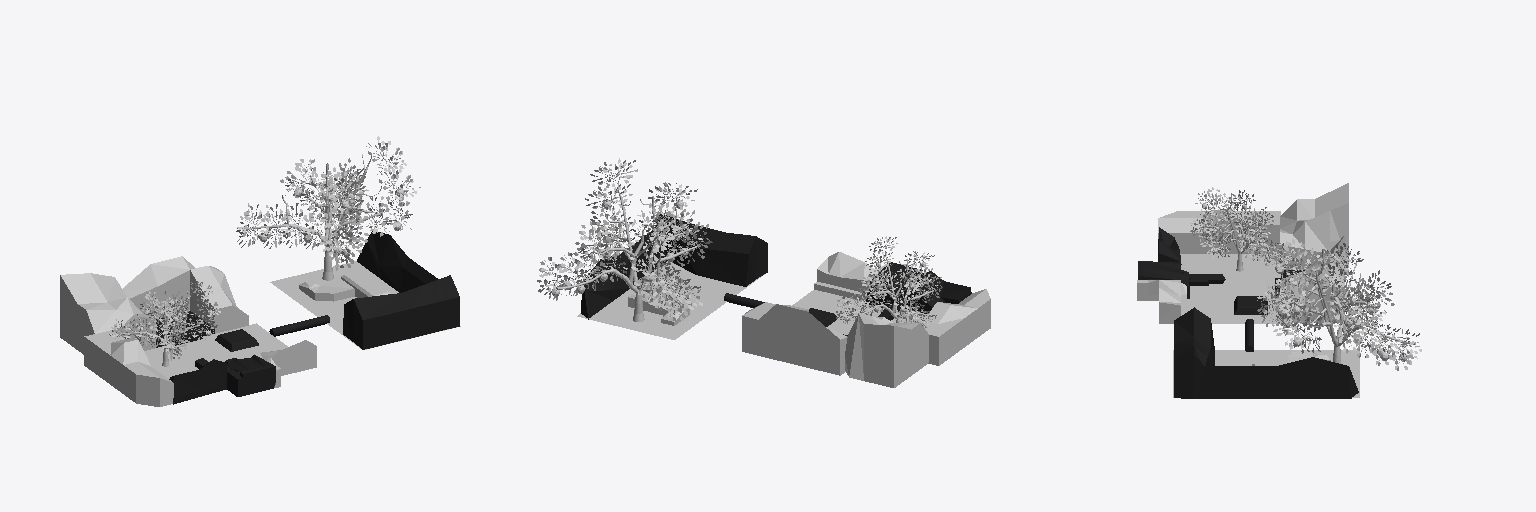
The model's file is Environment.obj.
The picture shows the model from 3 angles: view 1: azimuth 30°, elevation 25°; view 2: azimuth 150°, elevation 25°; view 3: azimuth 270°, elevation 25°; orthographic projection.
Visible parts, largest first — view 1: Cube.001_Cube.003, Cube.005_Cube.007, Cube.007_Cube.009, Object_10.001_Object_2.001, Cube.008_Cube.010, Cube.004_Cube.006, Plane, Plane.003, Object_10_Object_2, Cube.003_Cube.005, Object_7.001_Object_0.001, Object_9.001_Object_1.001 (+2 smaller); view 2: Cube.001_Cube.003, Object_10.001_Object_2.001, Cube.008_Cube.010, Cube.007_Cube.009, Cube.005_Cube.007, Plane.003, Cube.003_Cube.005, Object_10_Object_2, Object_7.001_Object_0.001, Cube.004_Cube.006, Plane, Object_9.001_Object_1.001 (+1 smaller); view 3: Cube.001_Cube.003, Object_10.001_Object_2.001, Plane, Cube.007_Cube.009, Cube.005_Cube.007, Object_10_Object_2, Cube.004_Cube.006, Plane.003, Cube.003_Cube.005, Cube.008_Cube.010, Object_7.001_Object_0.001, Object_9.001_Object_1.001 (+2 smaller).
Boxes of the visible parts, x1=… form: Cube.001_Cube.003: x1=343, y1=231, x2=459, y2=349; Cube.005_Cube.007: x1=84, y1=271, x2=390, y2=406; Cube.007_Cube.009: x1=60, y1=273, x2=155, y2=354; Object_10.001_Object_2.001: x1=236, y1=136, x2=420, y2=270; Cube.008_Cube.010: x1=123, y1=256, x2=248, y2=332; Cube.004_Cube.006: x1=169, y1=332, x2=275, y2=404; Plane: x1=144, y1=323, x2=287, y2=378; Plane.003: x1=270, y1=261, x2=460, y2=349; Object_10_Object_2: x1=110, y1=278, x2=220, y2=360; Cube.003_Cube.005: x1=254, y1=340, x2=316, y2=387; Object_7.001_Object_0.001: x1=237, y1=154, x2=382, y2=280; Object_9.001_Object_1.001: x1=243, y1=141, x2=412, y2=262; Cube.001_Cube.003: x1=581, y1=214, x2=767, y2=319; Object_10.001_Object_2.001: x1=537, y1=158, x2=712, y2=320; Cube.008_Cube.010: x1=742, y1=302, x2=847, y2=375; Cube.007_Cube.009: x1=845, y1=314, x2=928, y2=387; Cube.005_Cube.007: x1=628, y1=274, x2=990, y2=365; Plane.003: x1=577, y1=261, x2=764, y2=339; Cube.003_Cube.005: x1=814, y1=252, x2=885, y2=300; Object_10_Object_2: x1=836, y1=236, x2=942, y2=327; Object_7.001_Object_0.001: x1=557, y1=181, x2=696, y2=321; Cube.004_Cube.006: x1=843, y1=262, x2=971, y2=335; Plane: x1=792, y1=290, x2=927, y2=334; Object_9.001_Object_1.001: x1=544, y1=167, x2=704, y2=314; Cube.001_Cube.003: x1=1174, y1=307, x2=1358, y2=398; Object_10.001_Object_2.001: x1=1257, y1=239, x2=1421, y2=370; Plane: x1=1180, y1=254, x2=1280, y2=323; Cube.007_Cube.009: x1=1279, y1=183, x2=1348, y2=269; Cube.005_Cube.007: x1=1158, y1=209, x2=1330, y2=365; Object_10_Object_2: x1=1190, y1=187, x2=1290, y2=264; Cube.004_Cube.006: x1=1138, y1=227, x2=1281, y2=295; Plane.003: x1=1173, y1=350, x2=1359, y2=397; Cube.003_Cube.005: x1=1137, y1=280, x2=1186, y2=323; Cube.008_Cube.010: x1=1280, y1=235, x2=1344, y2=322; Object_7.001_Object_0.001: x1=1282, y1=248, x2=1415, y2=363; Object_9.001_Object_1.001: x1=1261, y1=246, x2=1415, y2=366.
Bounding box in the file's own units: 656 × 258 × 473.